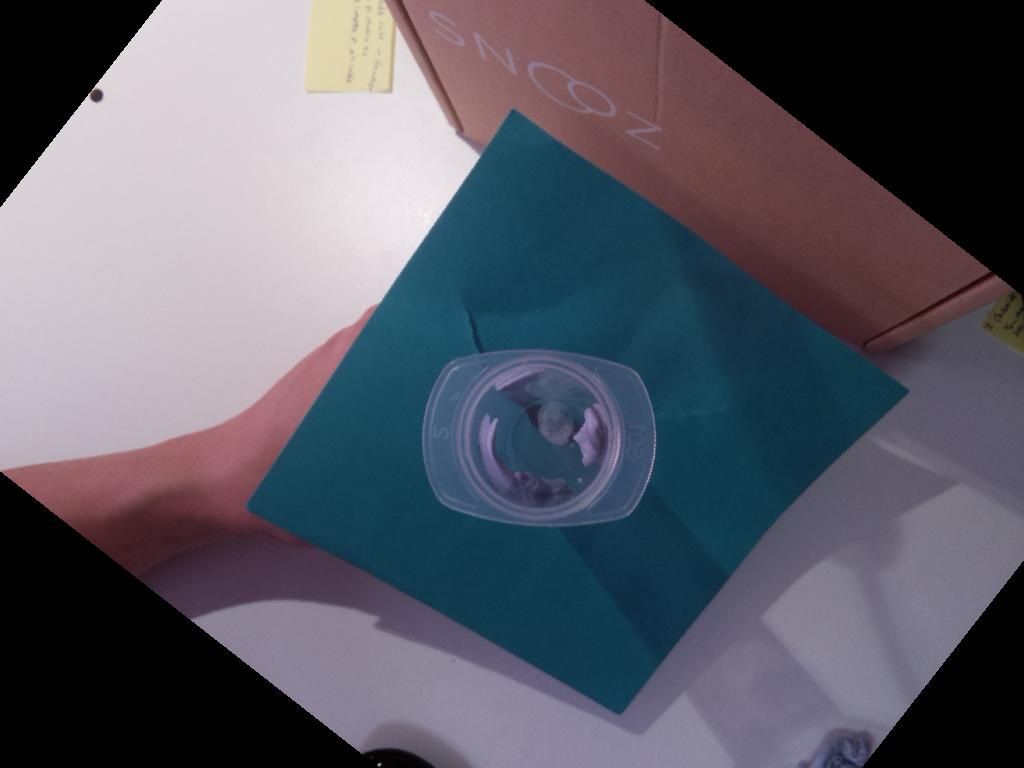dirty: (422, 348, 656, 527)
